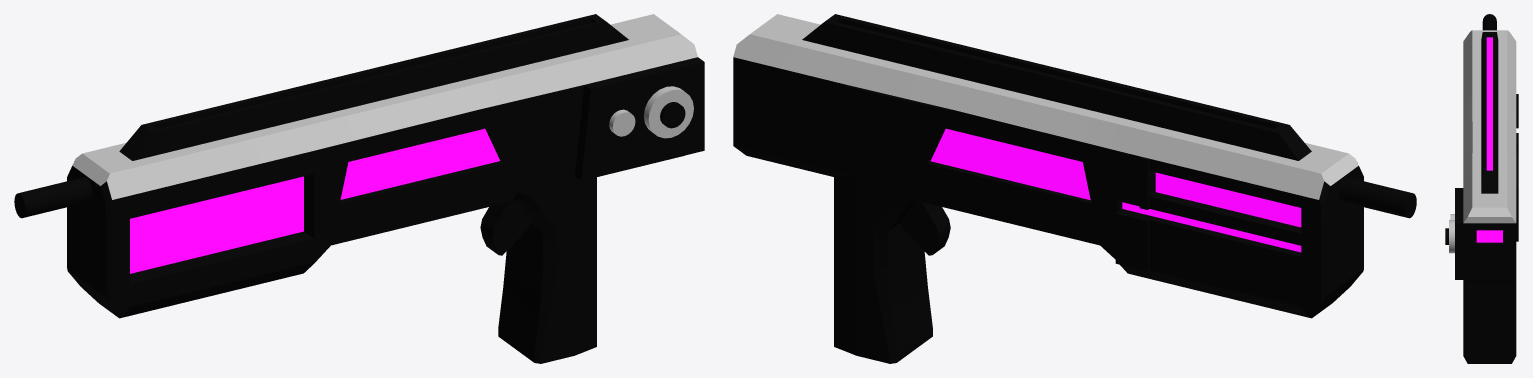
The model's file is gun.fbx.
3 renders of one model, left to right at view 1: azimuth 30°, elevation 25°; view 2: azimuth 150°, elevation 25°; view 3: azimuth 270°, elevation 25°, orthographic. The views are drawn at different scales.
Parts seen in each view (by area): view 1: pCube5; view 2: pCube5; view 3: pCube5.
Part boxes in pixels (x1,y1,x2,y2): pCube5: (14,14,704,363); pCube5: (733,14,1416,363); pCube5: (1445,14,1518,363).
Bounding box in the file's own units: 5.78 × 2.61 × 0.8796.
